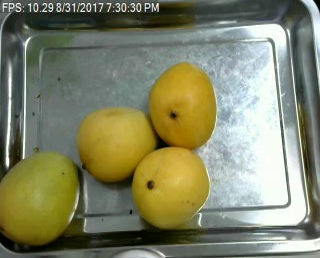Mango: (0, 150, 77, 244), (130, 146, 213, 226), (147, 61, 217, 149), (78, 106, 152, 183)
